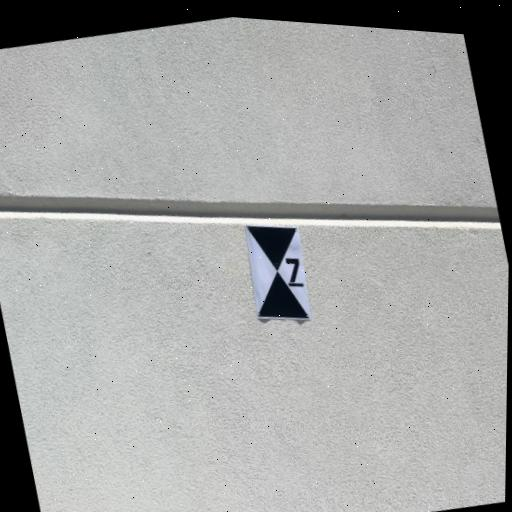target7: (243, 225, 311, 319)
